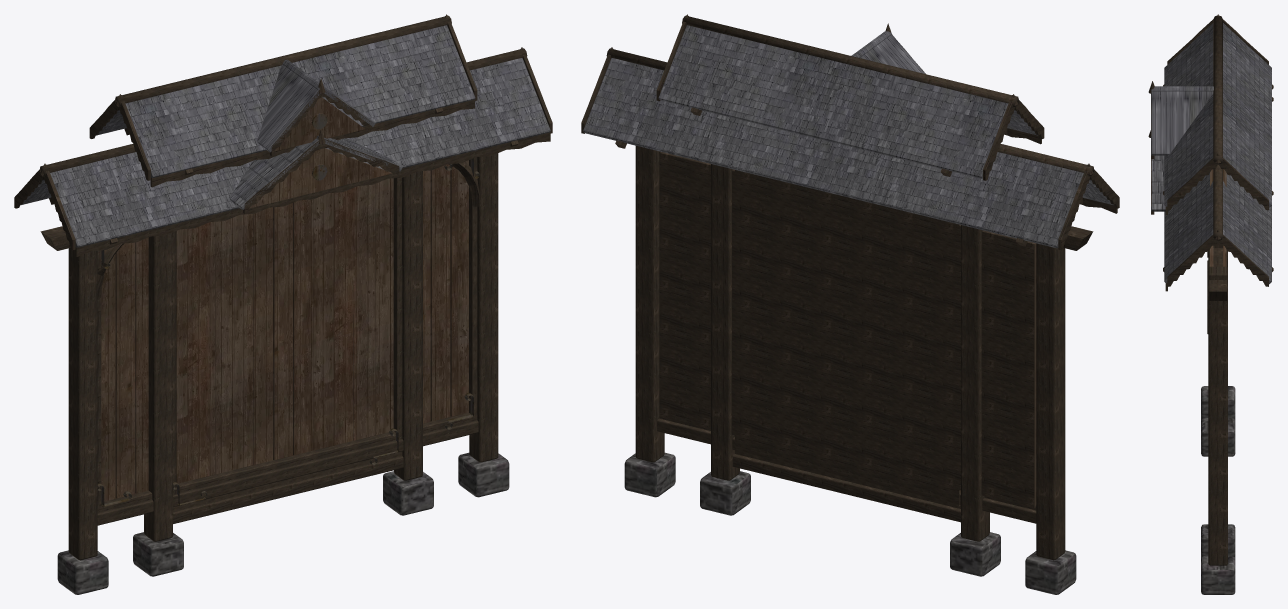
The model's file is noticeboard.glb.
The picture shows the model from 3 angles, left to right: view 1: azimuth 30°, elevation 25°; view 2: azimuth 150°, elevation 25°; view 3: azimuth 270°, elevation 25°; orthographic projection. The views are drawn at different scales.
Parts seen in each view (by area): view 1: NoticeBoardWideMesh, NoticeBoardTallMesh; view 2: NoticeBoardTallMesh, NoticeBoardWideMesh; view 3: NoticeBoardTallMesh, NoticeBoardWideMesh.
Part boxes in pixels (x1,y1,x2,y2): NoticeBoardWideMesh: [14, 47, 552, 594]; NoticeBoardTallMesh: [89, 14, 477, 576]; NoticeBoardTallMesh: [656, 14, 1044, 576]; NoticeBoardWideMesh: [581, 47, 1119, 594]; NoticeBoardTallMesh: [1148, 14, 1273, 558]; NoticeBoardWideMesh: [1148, 97, 1273, 594].
Bounding box in the file's own units: 5.96 × 5.71 × 1.53.
Materials: 5 (5 with a texture image).
